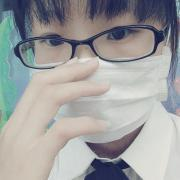OK: (29, 5, 168, 144)
